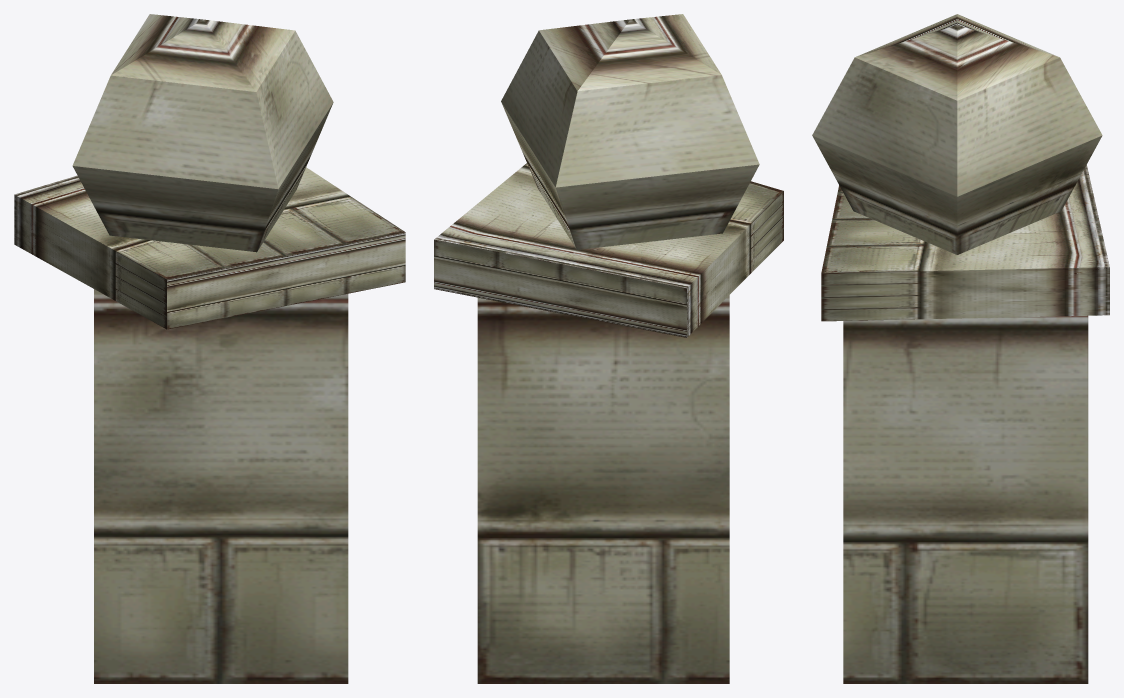
The model's file is ZiersäuleKlein_Eckig_2136.glb.
3 views of the same model, side by side, from view 1: azimuth 30°, elevation 25°; view 2: azimuth 150°, elevation 25°; view 3: azimuth 270°, elevation 25° (orthographic). The views are drawn at different scales.
Visible parts, largest first — view 1: pCylinderShape25, pSphereShape46, pCubeShape206; view 2: pCylinderShape25, pSphereShape46, pCubeShape206; view 3: pCylinderShape25, pSphereShape46, pCubeShape206.
Part boxes in pixels (x1=…): pCylinderShape25: x1=94, y1=289, x2=348, y2=683; pSphereShape46: x1=72, y1=14, x2=333, y2=252; pCubeShape206: x1=14, y1=167, x2=405, y2=329; pCylinderShape25: x1=477, y1=295, x2=729, y2=683; pSphereShape46: x1=501, y1=14, x2=759, y2=249; pCubeShape206: x1=434, y1=163, x2=783, y2=337; pCylinderShape25: x1=843, y1=315, x2=1088, y2=683; pSphereShape46: x1=812, y1=14, x2=1102, y2=254; pCubeShape206: x1=821, y1=165, x2=1109, y2=321.
Bounding box in the file's own units: 0.0933 × 0.2181 × 0.0952.
Materials: 3 (3 with a texture image).
